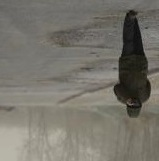person: (113, 10, 151, 118)
